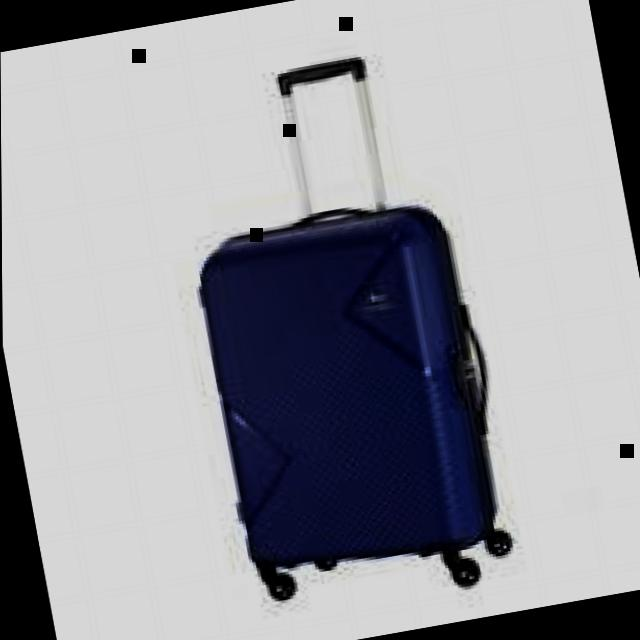luggage: (178, 181, 522, 589)
